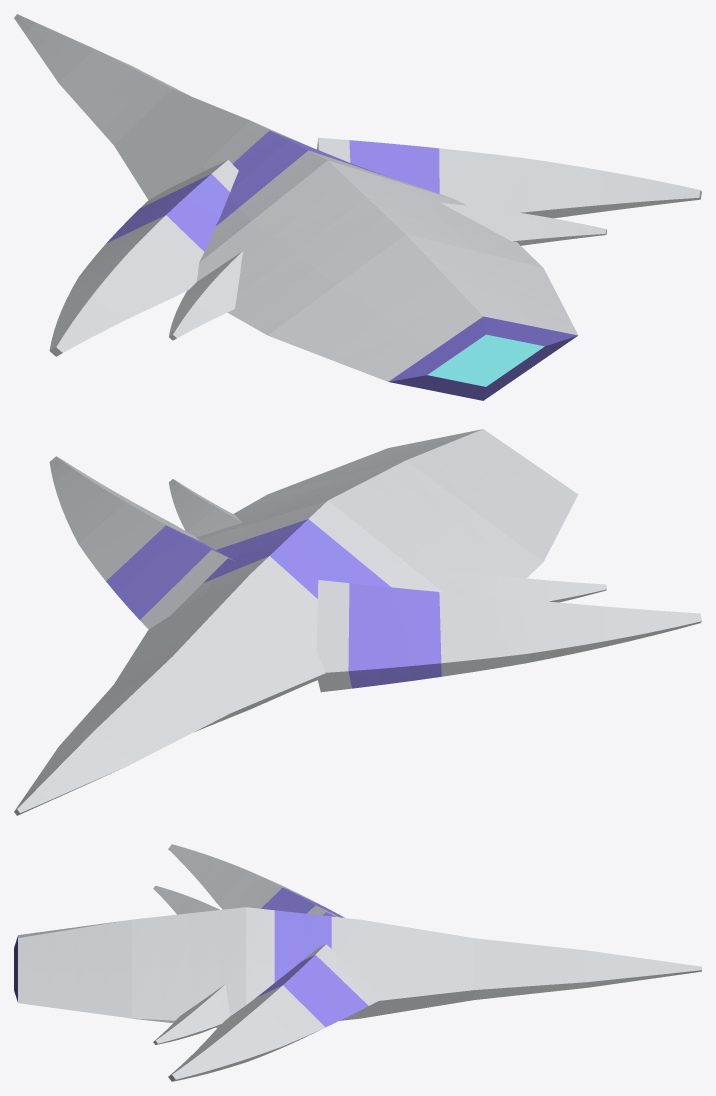
The model's file is axiom_dd.glb.
The picture shows the model from 3 angles, top to bottom: view 1: azimuth 30°, elevation 25°; view 2: azimuth 150°, elevation 25°; view 3: azimuth 270°, elevation 25°; orthographic projection. The views are drawn at different scales.
Visible parts, largest first — view 1: hull_mesh, limb_0_mesh, limb_0_port_mesh, limb_0_1_port_mesh, limb_0_1_mesh; view 2: hull_mesh, limb_0_mesh, limb_0_port_mesh, limb_0_1_mesh, limb_0_1_port_mesh; view 3: hull_mesh, limb_0_port_mesh, limb_0_mesh, limb_0_1_port_mesh, limb_0_1_mesh.
Part boxes in pixels (<box>): hull_mesh: <box>14,14,578,400</box>; limb_0_mesh: <box>49,160,238,356</box>; limb_0_port_mesh: <box>317,137,701,218</box>; limb_0_1_port_mesh: <box>441,203,606,245</box>; limb_0_1_mesh: <box>169,251,243,340</box>; hull_mesh: <box>14,429,578,815</box>; limb_0_mesh: <box>316,580,701,692</box>; limb_0_port_mesh: <box>49,456,235,629</box>; limb_0_1_mesh: <box>440,571,606,602</box>; limb_0_1_port_mesh: <box>169,479,242,537</box>; hull_mesh: <box>14,907,701,1027</box>; limb_0_port_mesh: <box>168,944,378,1081</box>; limb_0_mesh: <box>168,844,344,917</box>; limb_0_1_port_mesh: <box>153,984,230,1044</box>; limb_0_1_mesh: <box>153,885,220,914</box>.
Bounding box in the file's own units: 69.48 × 17.2 × 86.52.
